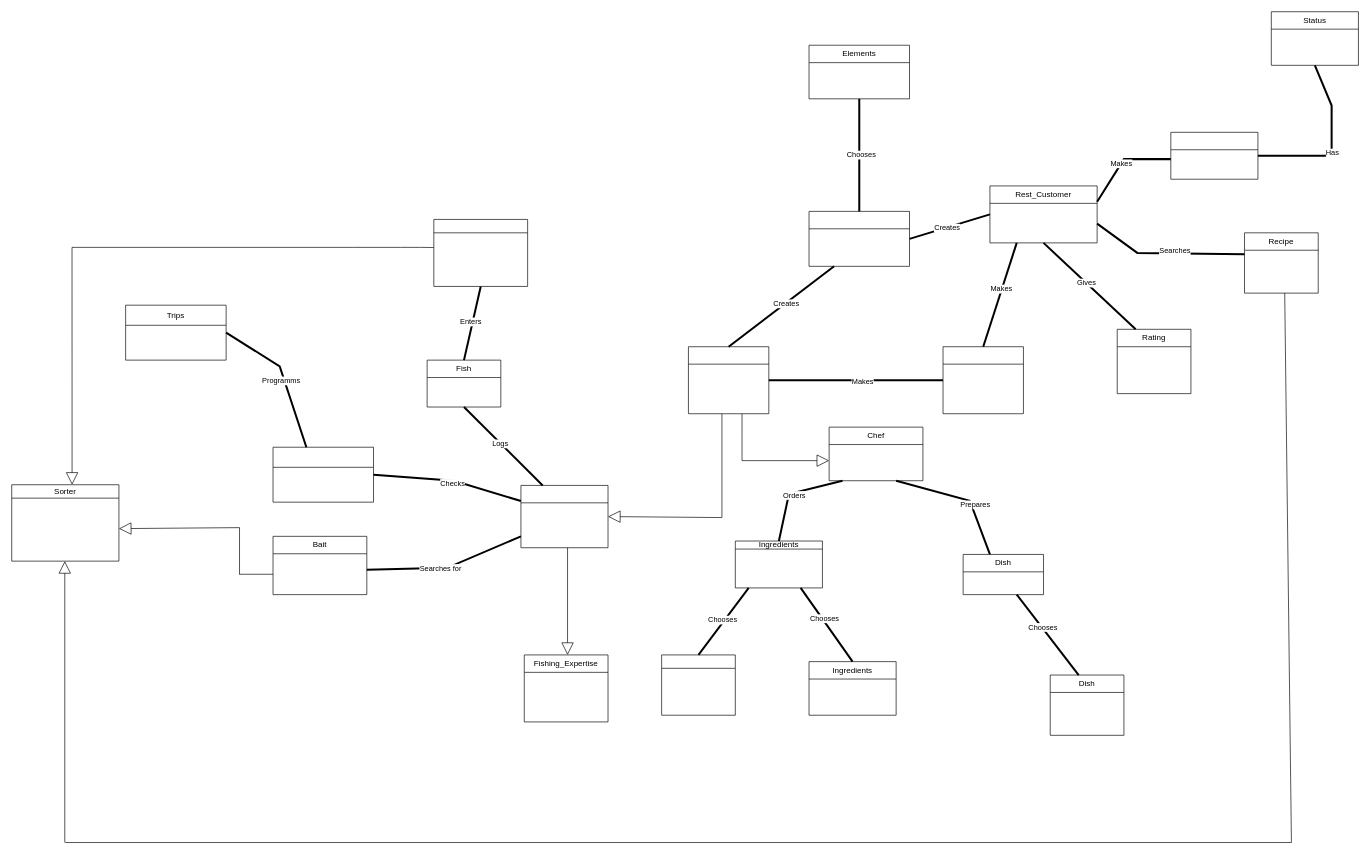
The diagram is 1370 pixels wide and 866 high, and some of its shapes have lost their labels. Each missing label, with the box of its shape:
Fisherman: (520, 485, 608, 548)
Friends: (942, 346, 1023, 414)
Info: (433, 219, 528, 286)
Order: (1170, 132, 1258, 179)
Producer: (661, 654, 735, 715)
Profile: (808, 211, 910, 266)
User: (688, 346, 769, 414)
Weather: (272, 447, 374, 502)
